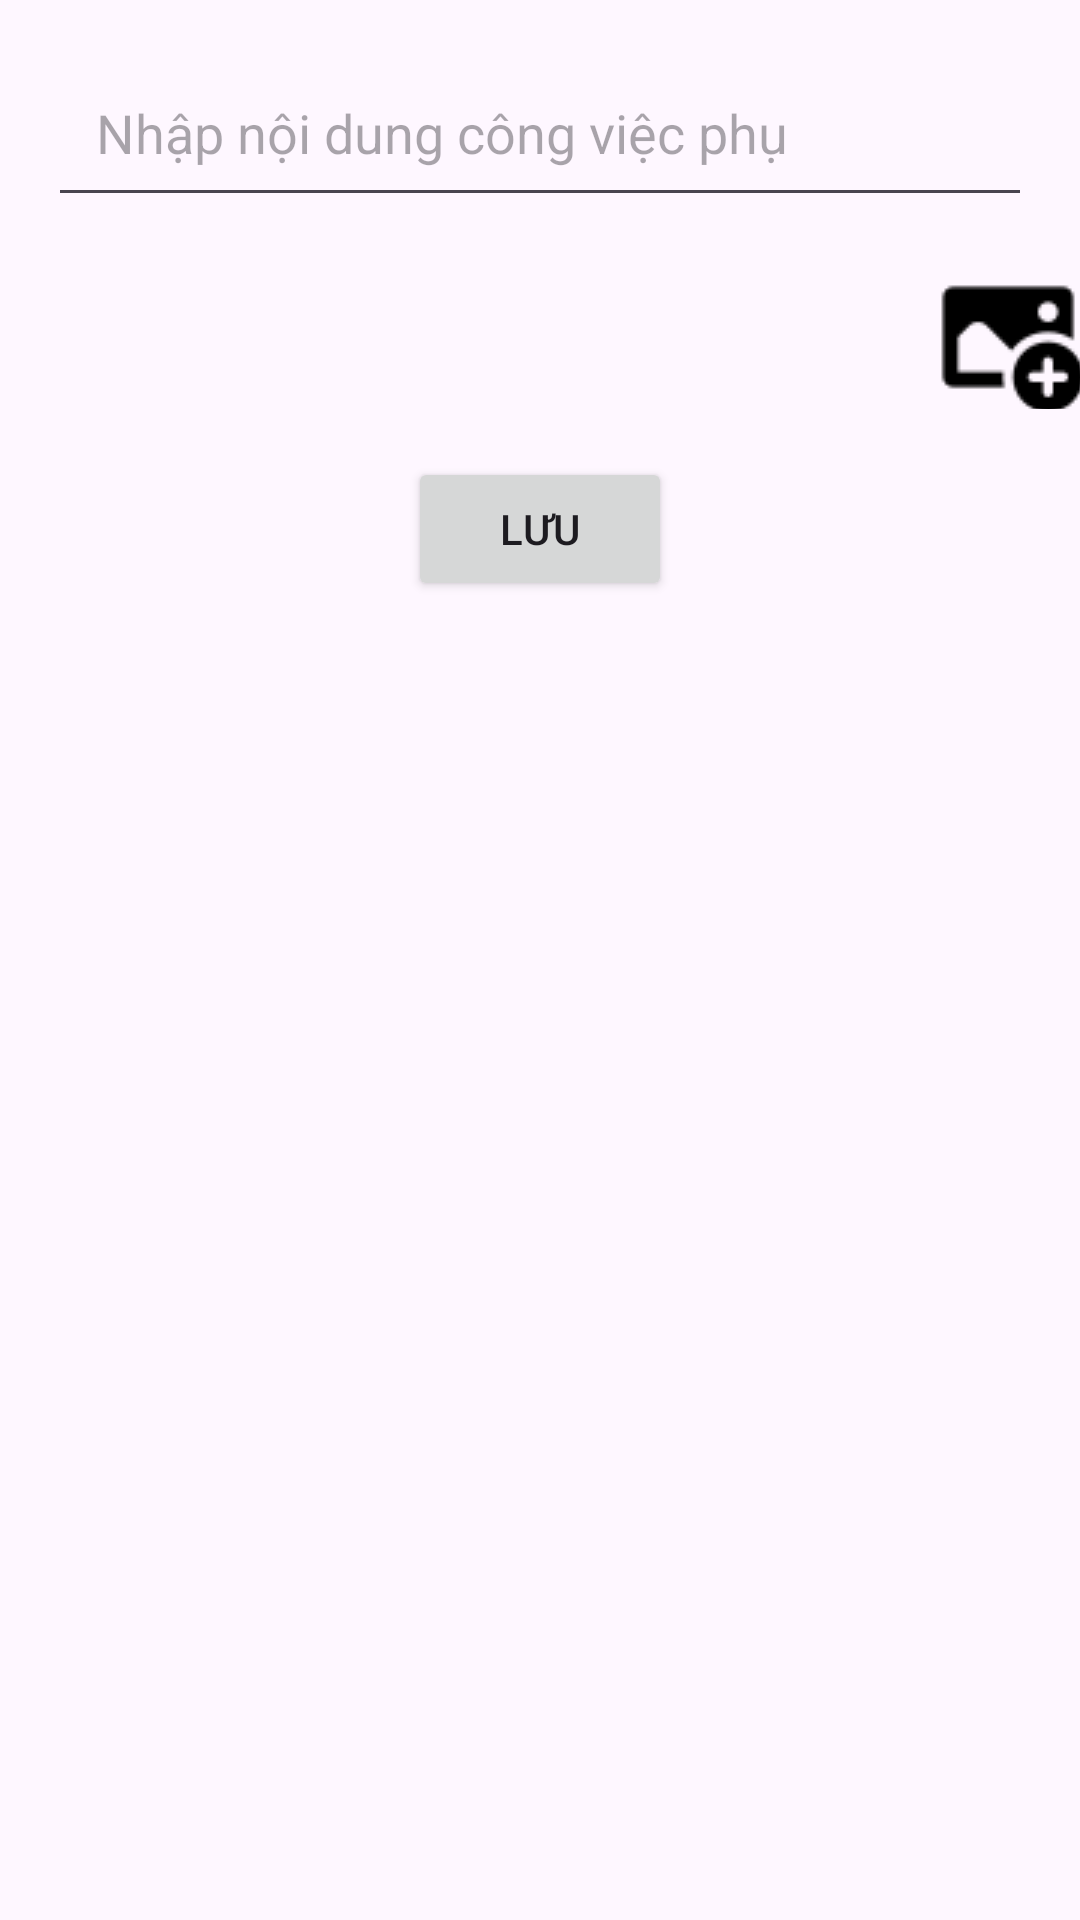

Named icons in this screenshot (1080×1920) and their centers, [x,y]:
add file: [1010,347]
